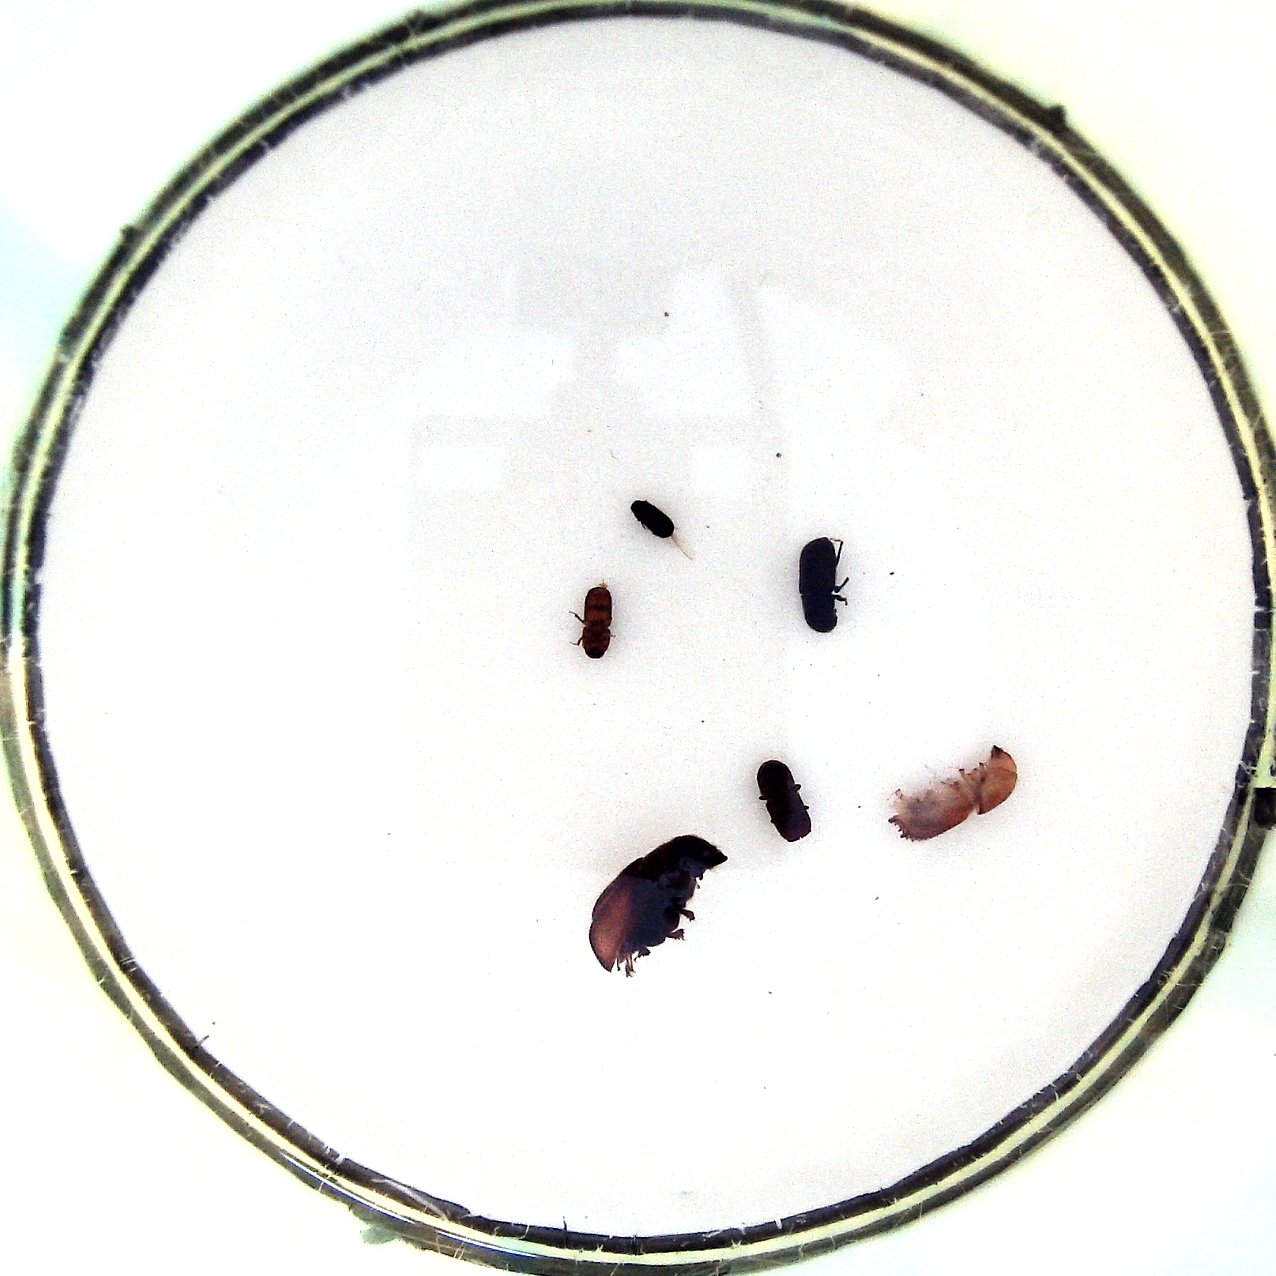Boerner: (885, 746, 1022, 844)
Leconte: (589, 835, 729, 979)
Linnaeus: (753, 758, 817, 844)
acuminatus: (569, 585, 616, 658)
armandi: (793, 533, 854, 638)
coleoptera: (629, 493, 685, 547)
